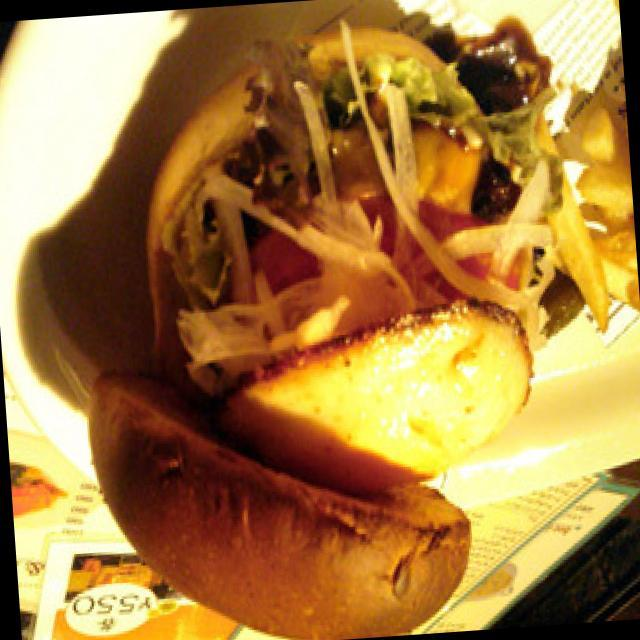Hamburger: (73, 34, 565, 640)
